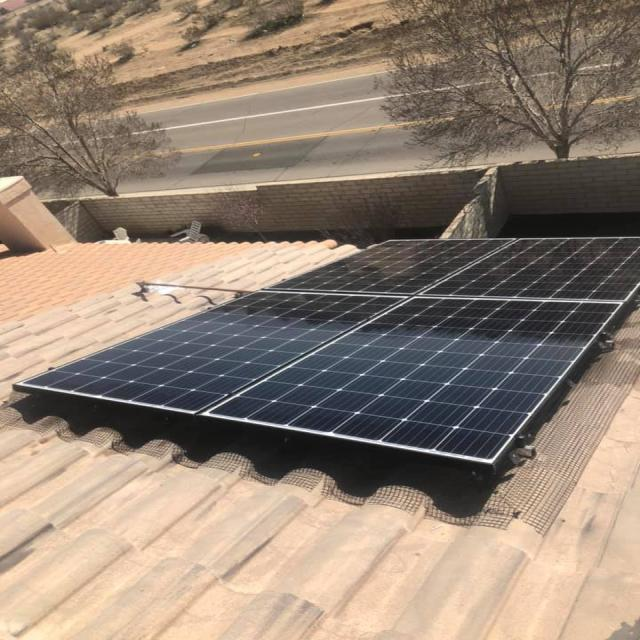clean-solar-panel: (15, 238, 638, 470)
